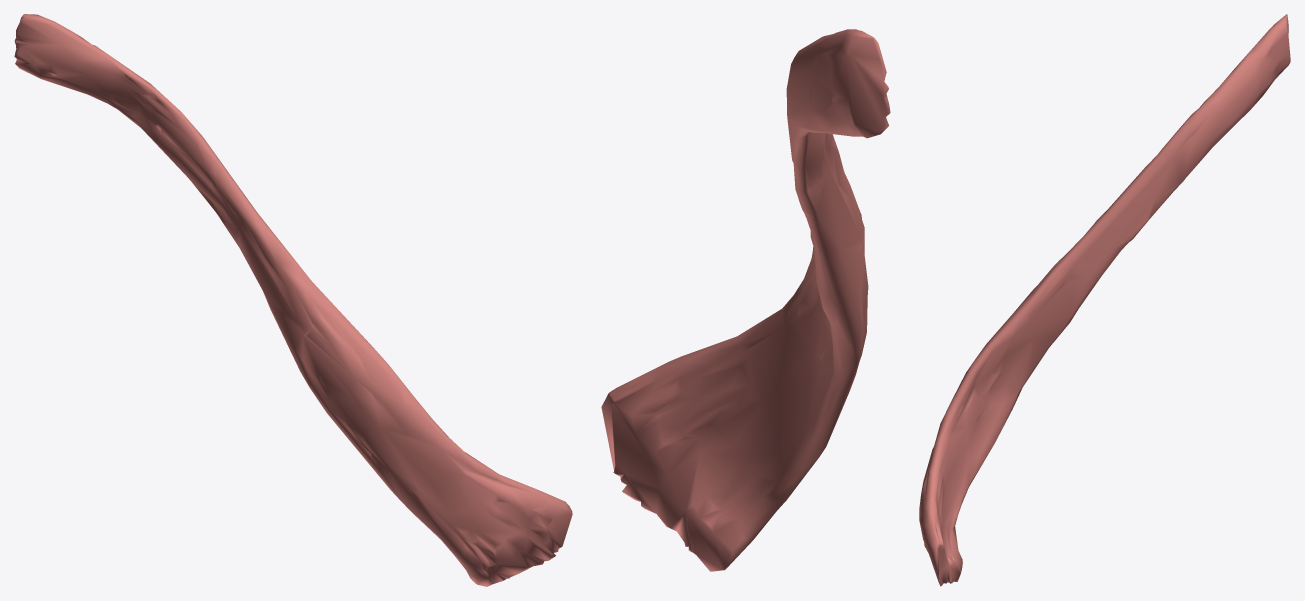
3 views of the same model, side by side, from view 1: azimuth 30°, elevation 25°; view 2: azimuth 150°, elevation 25°; view 3: azimuth 270°, elevation 25° (orthographic). The views are drawn at different scales.
Visible parts, largest first — view 1: ZA_5b6bc3c090d774ce; view 2: ZA_5b6bc3c090d774ce; view 3: ZA_5b6bc3c090d774ce.
Boxes of the visible parts, x1=… form: ZA_5b6bc3c090d774ce: x1=14, y1=14, x2=572, y2=586; ZA_5b6bc3c090d774ce: x1=601, y1=29, x2=890, y2=571; ZA_5b6bc3c090d774ce: x1=919, y1=14, x2=1290, y2=586.
Size of the model in its own units: 0.1321 by 0.1769 by 0.133.
